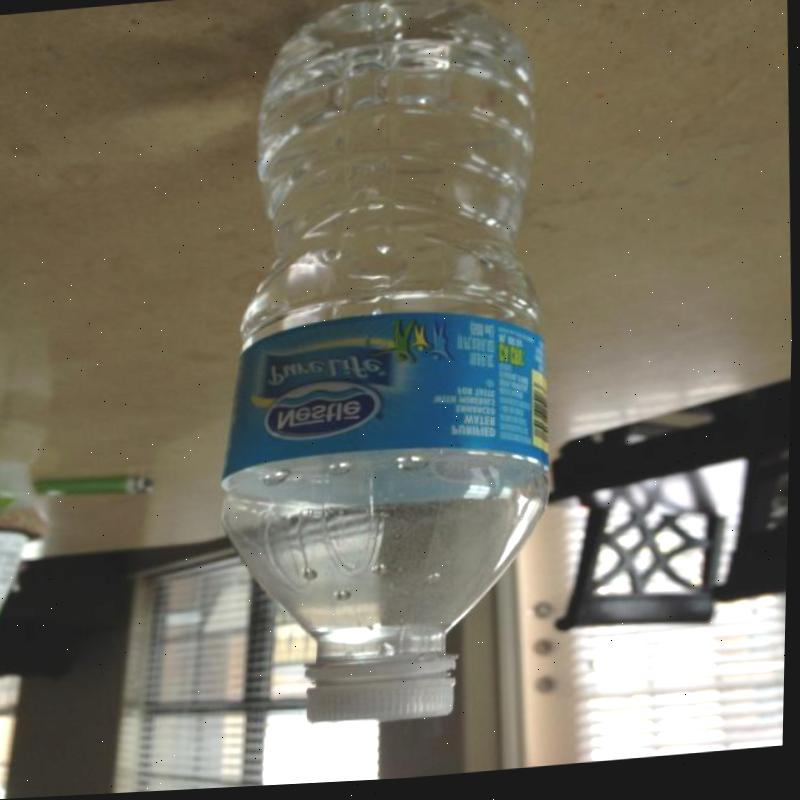botella: (194, 0, 572, 737)
